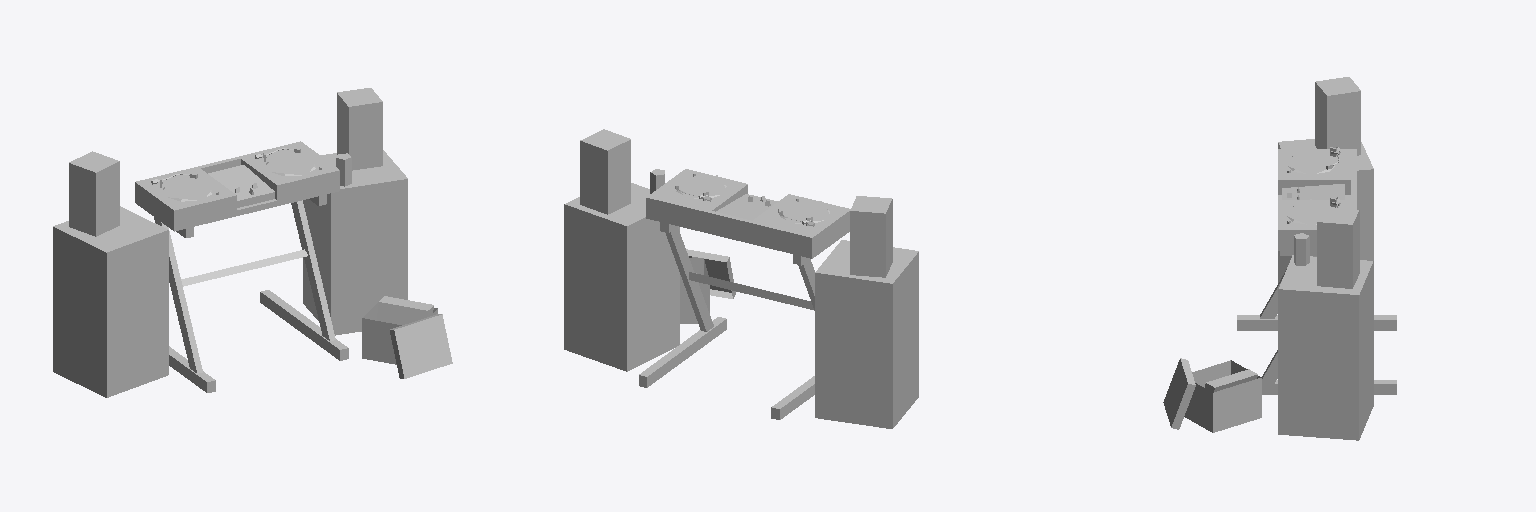
3 views of the same model, side by side, from view 1: azimuth 30°, elevation 25°; view 2: azimuth 150°, elevation 25°; view 3: azimuth 270°, elevation 25° (orthographic).
Visible parts, largest first — view 1: dj5000_dj5000_0; view 2: dj5000_dj5000_0; view 3: dj5000_dj5000_0.
Boxes of the visible parts, x1,y1,x2,y2 form: dj5000_dj5000_0: [53, 88, 452, 397]; dj5000_dj5000_0: [564, 129, 918, 428]; dj5000_dj5000_0: [1163, 77, 1396, 440].
Size of the model in its own units: 424 by 260 by 262.